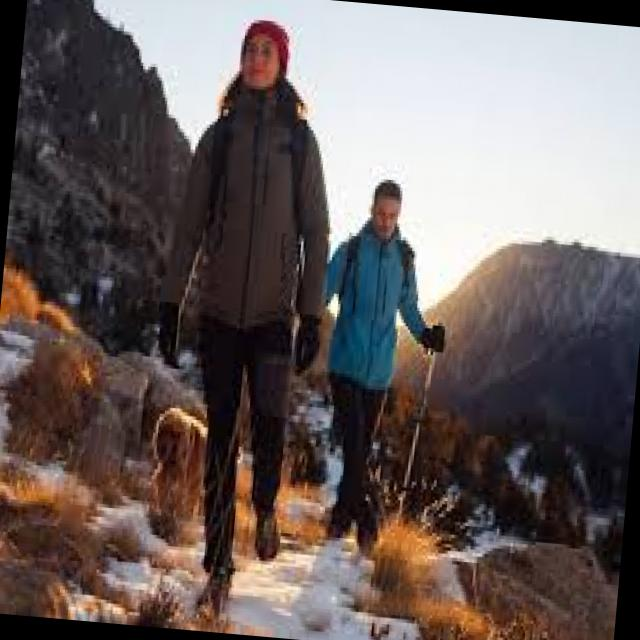Jacket: (148, 86, 346, 395), (306, 206, 458, 420)
